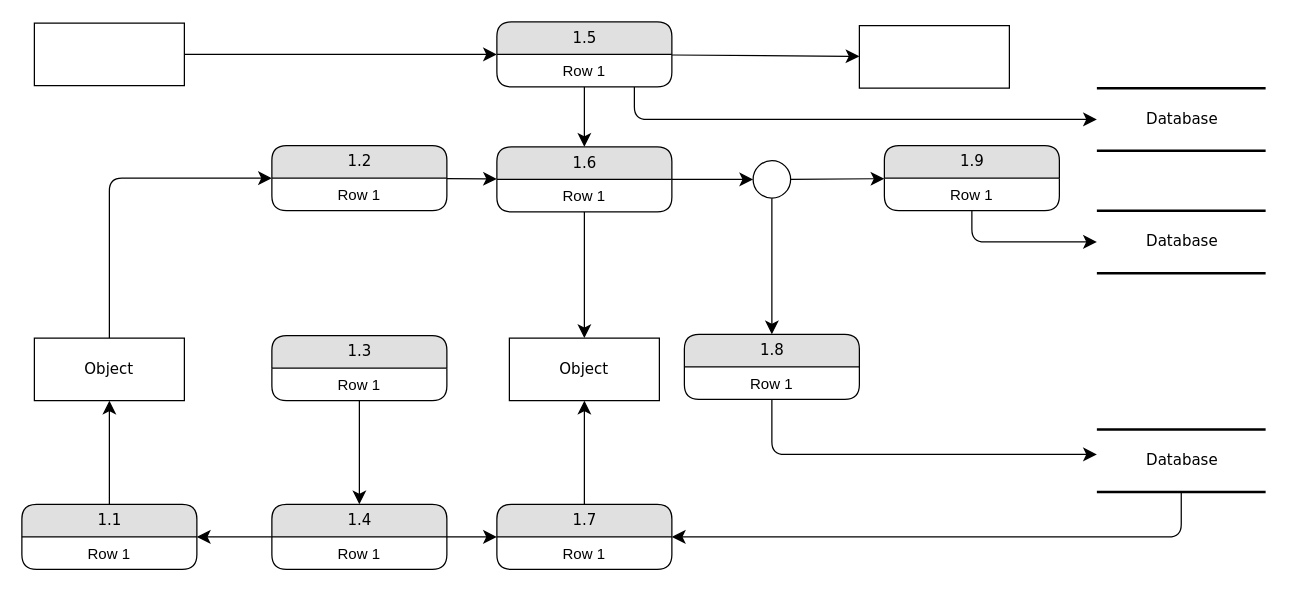
Image size: 1289x595. Some labels were removed from this diagram. The box of each missing label's shape, as (x1, y1, x2, y2) in pixels:
/FileOperations: (33, 22, 184, 86)
Output: (858, 24, 1009, 88)
